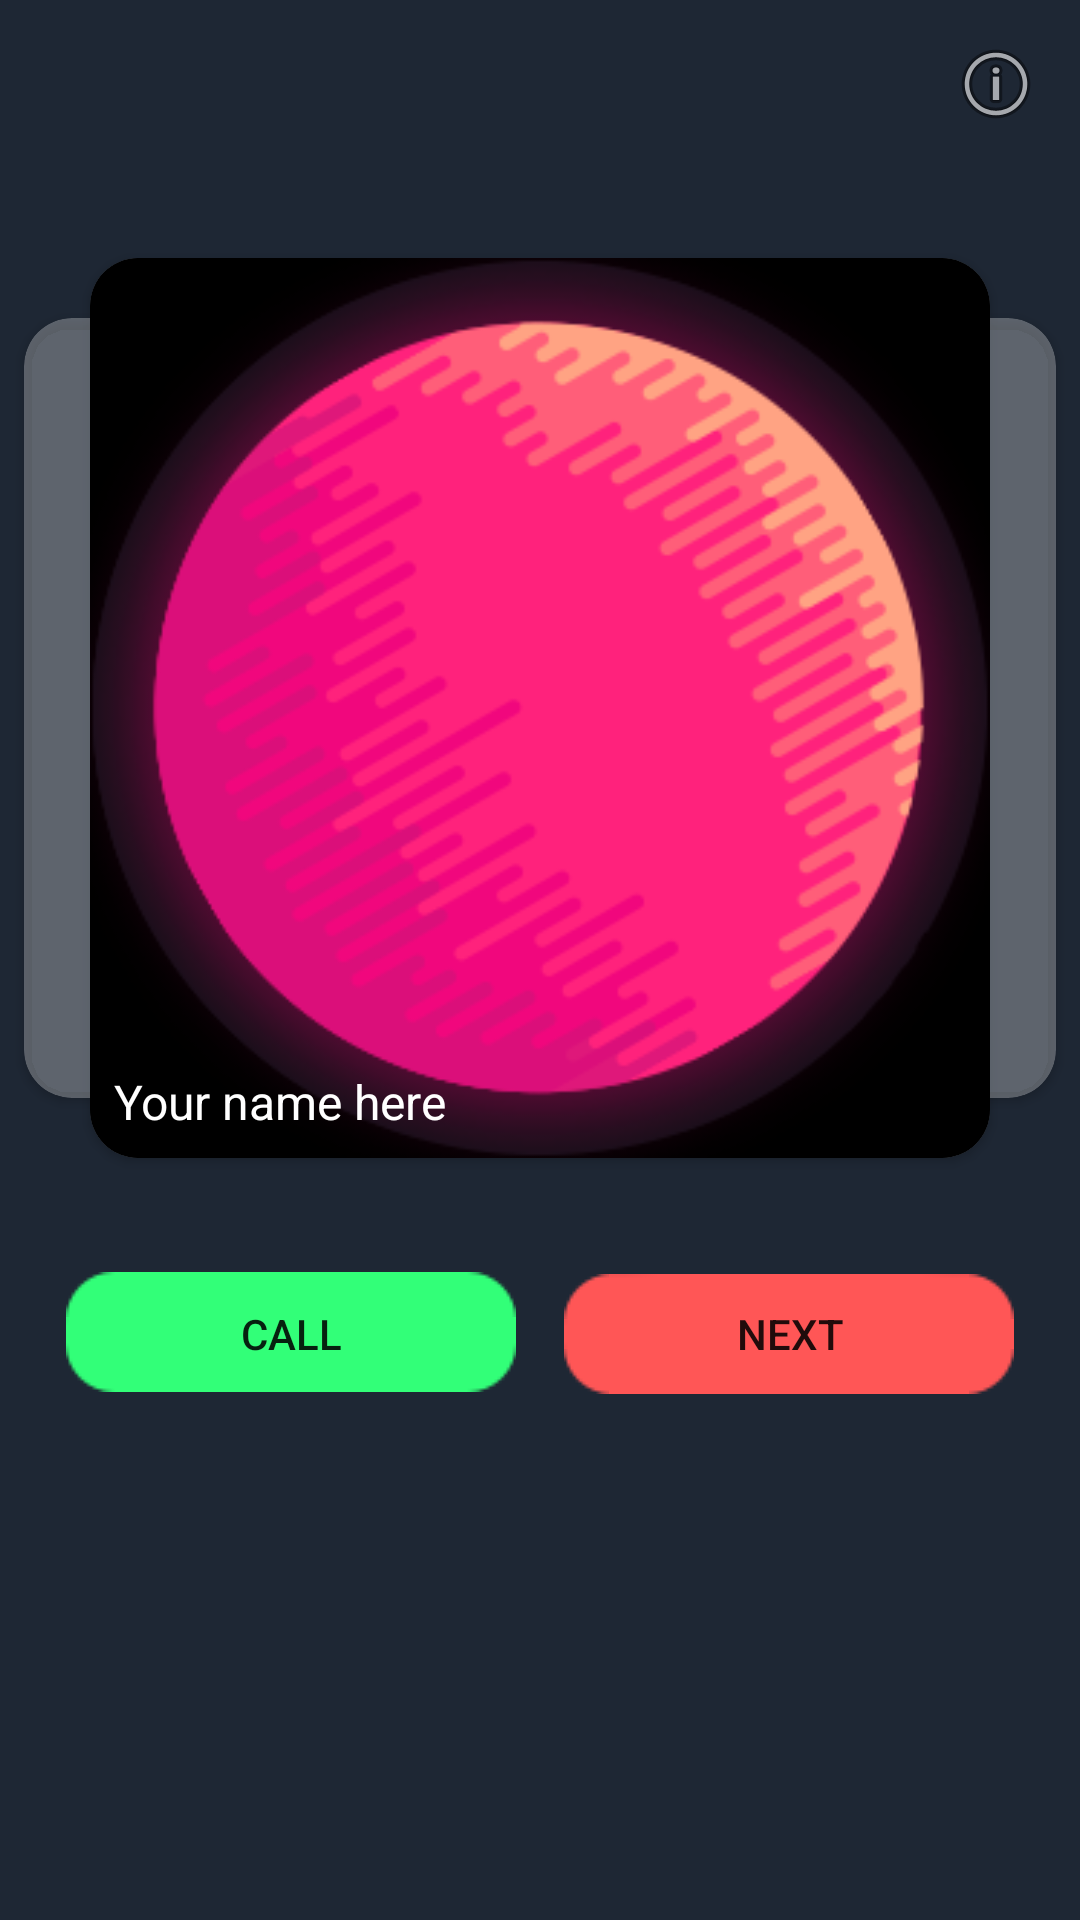

Point at icon controls on the screen. Image size 1080 x 1920, points as point (x, y).
info details: point (996, 84)
